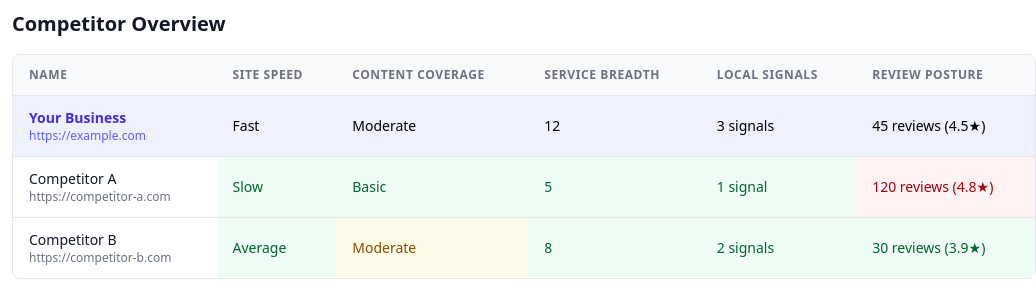
CompetitorTable (US-8.1) › shows tooltips with evidence details on hover
# Find the local signals cell for user row — should show tooltip listing signals
Hover over the button "3 signals" at {"x": 746, "y": 126}, box [717,116,774,135]
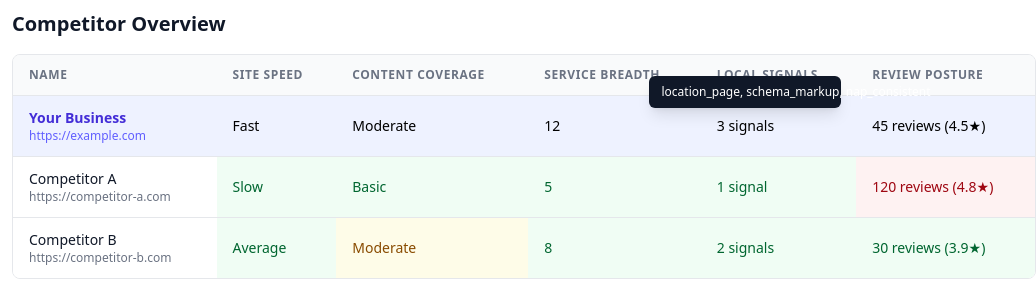
Now the tooltip "location_page, schema_markup, nap_consistent" is shown, box [650,76,842,108]
